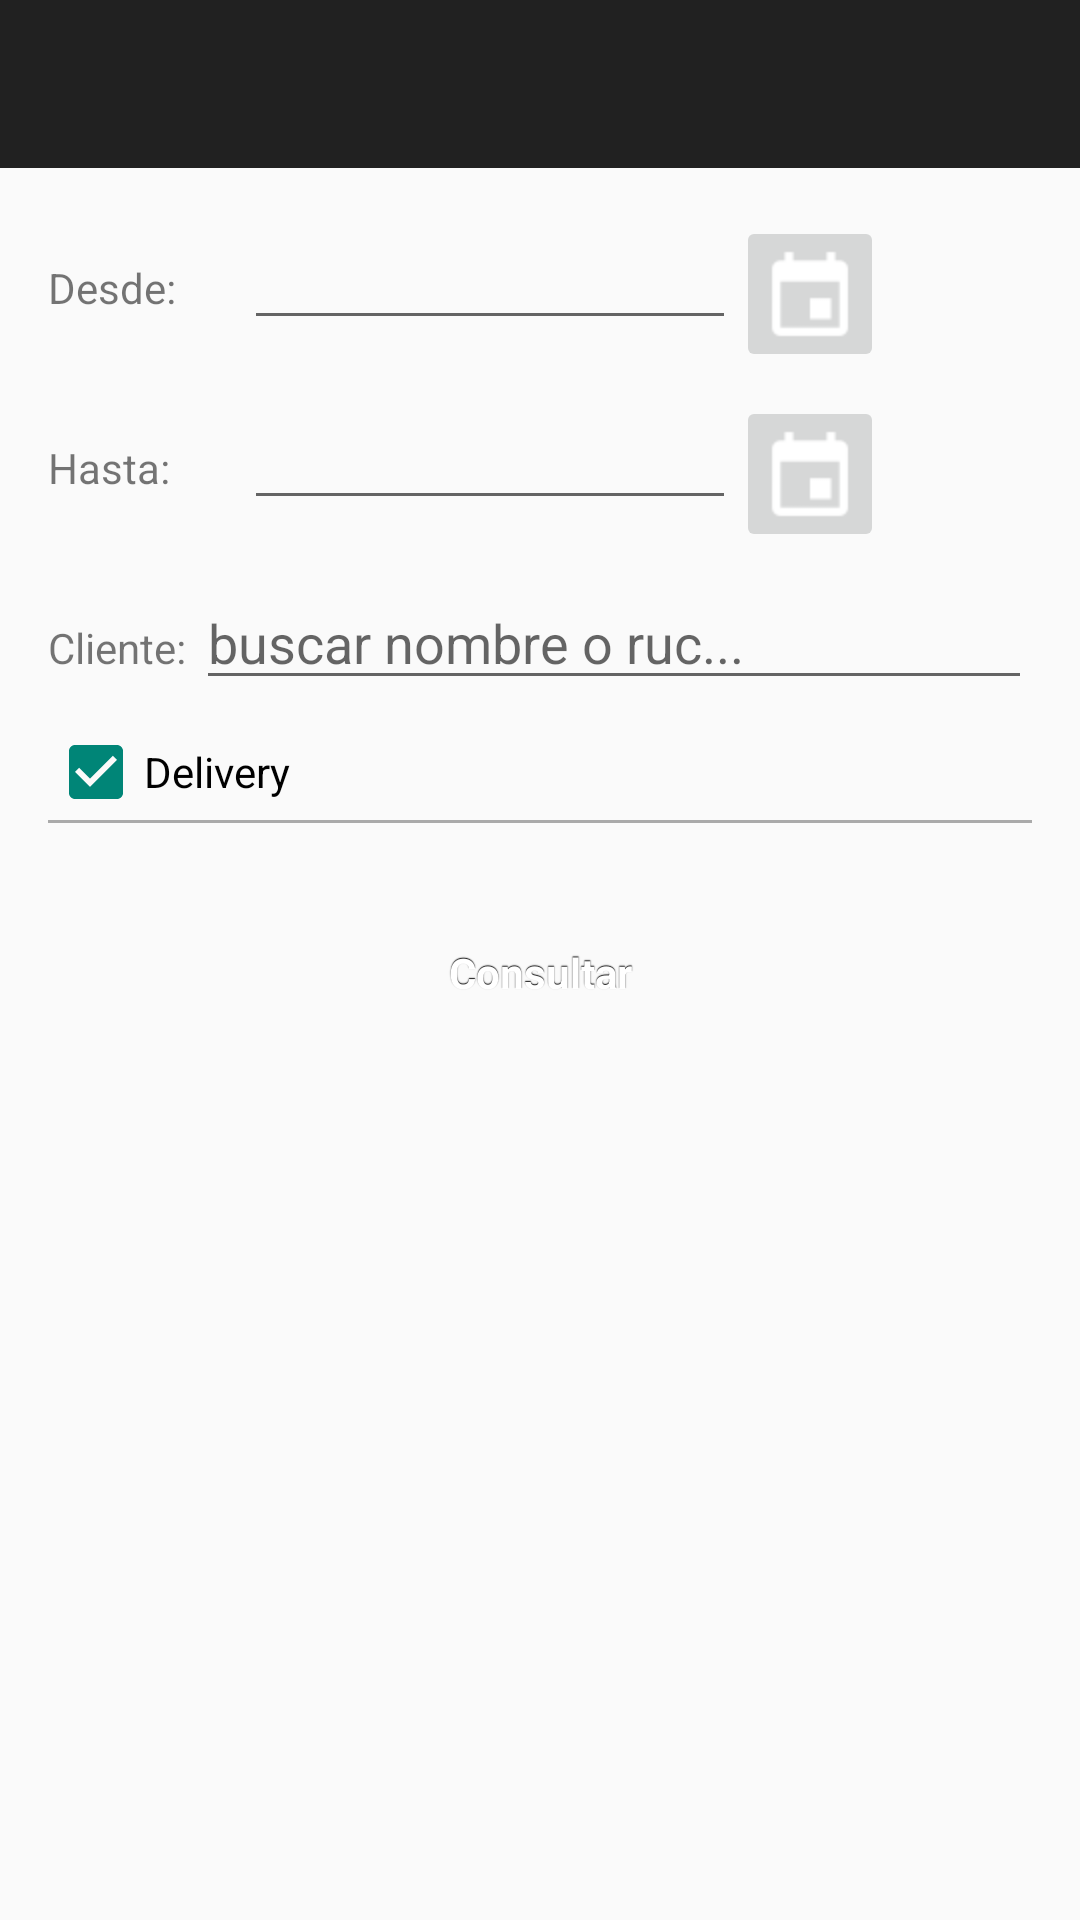

Where to tap for icons on this 1080px x 1920px app screen, as point (x, y):
calendar: point (810, 294), point (810, 474)
